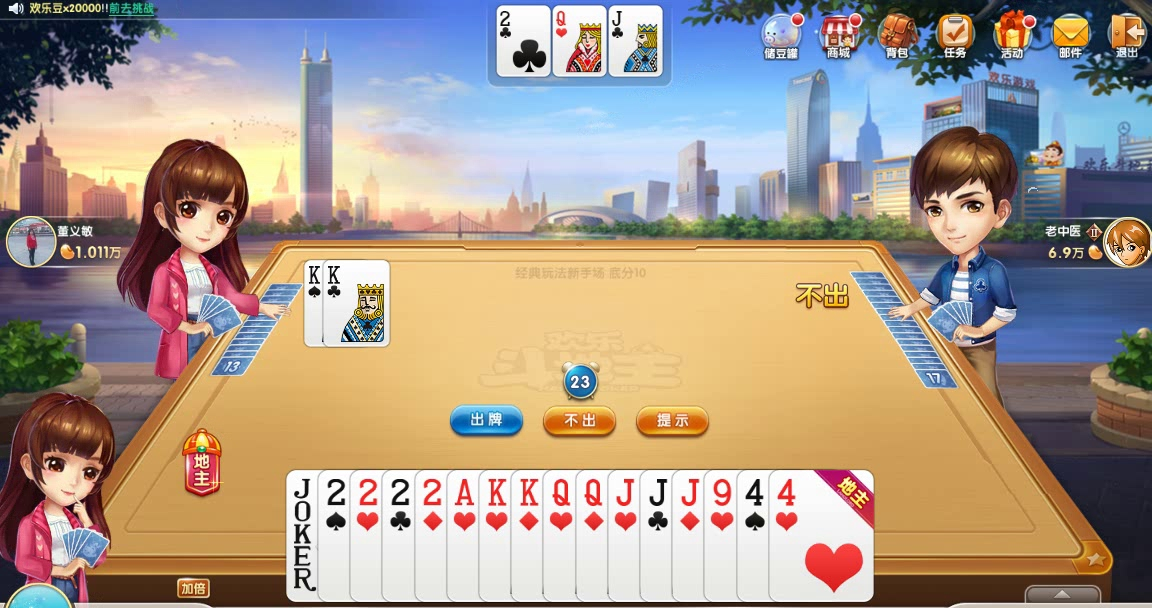11~1: (670, 470, 780, 602)
11~2: (639, 470, 749, 602), (608, 4, 664, 78)
11~3: (605, 469, 715, 601)
12~1: (575, 469, 685, 601)
12~3: (542, 469, 652, 601), (540, 467, 650, 599), (551, 4, 607, 78)
13~1: (509, 469, 619, 601)
13~2: (323, 259, 391, 349)
13~3: (477, 469, 587, 601)
13~4: (303, 259, 371, 349)
14~3: (446, 469, 556, 601)
15~1: (413, 469, 523, 601)
15~2: (381, 469, 491, 601), (495, 4, 551, 78)
15~3: (347, 469, 457, 601)
15~4: (316, 469, 426, 601)
17~3: (285, 469, 395, 601)
4~3: (767, 470, 877, 602)
4~4: (735, 470, 845, 602)
9~3: (703, 470, 813, 602)
